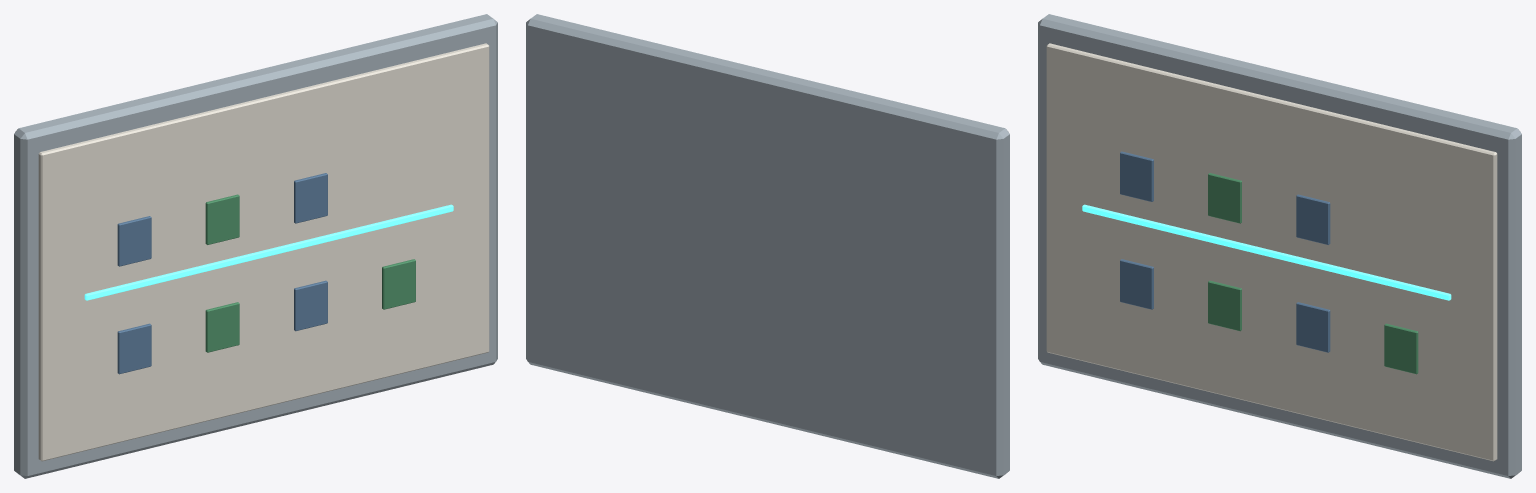
Rendered from school_12.glb.
3 renders of one model, left to right at view 1: azimuth 30°, elevation 25°; view 2: azimuth 150°, elevation 25°; view 3: azimuth 330°, elevation 25°, orthographic.
Parts seen in each view (by area): view 1: DisplaySurface, DisplayFrame, MapBuilding (×7), MapPath; view 2: DisplayFrame; view 3: DisplaySurface, DisplayFrame, MapBuilding (×7), MapPath.
Boxes of the visible parts, x1,y1,x2,y2 form: DisplaySurface: [38, 43, 489, 461]; DisplayFrame: [14, 14, 497, 478]; MapBuilding (×7): [117, 173, 415, 374]; MapPath: [84, 204, 453, 300]; DisplayFrame: [526, 14, 1009, 478]; DisplaySurface: [1046, 43, 1497, 461]; DisplayFrame: [1038, 14, 1521, 478]; MapBuilding (×7): [1120, 151, 1418, 374]; MapPath: [1082, 204, 1451, 300].
Size of the model in its own units: 1.3 by 0.9 by 0.0945.
